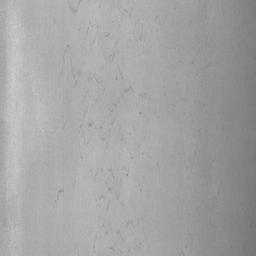Silk spot: (90, 160, 128, 210), (61, 45, 100, 85), (108, 67, 133, 112), (80, 119, 115, 149), (86, 22, 110, 49), (126, 216, 145, 229), (68, 0, 82, 14)
